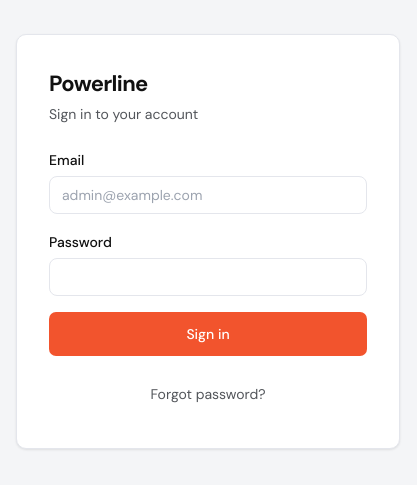
Test: Login › shows an error message when login is rejected
Type "ada@example.com" into the field labelled "Email" at (208, 194), box [49, 176, 367, 214]
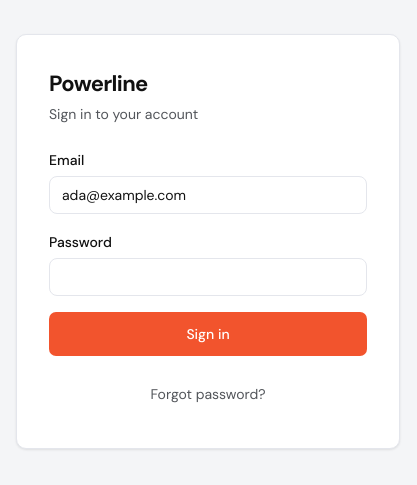
Type "wrong" into the password field labelled "Password" at (208, 276), box [49, 258, 367, 296]
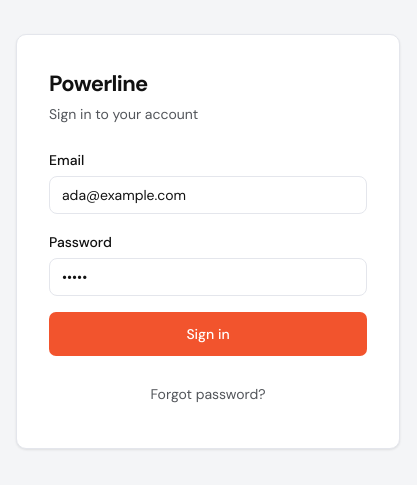
Click the button "Sign in" at (208, 334), box [49, 312, 367, 356]
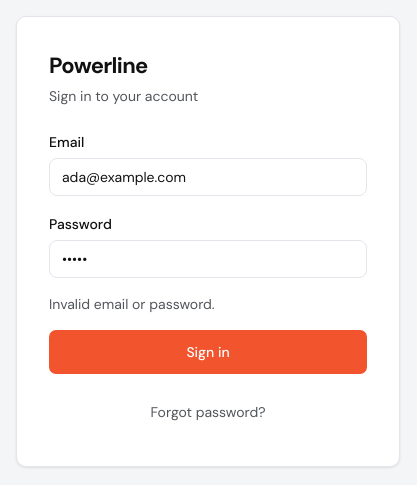
Expected: the text "Invalid email or password." is shown, [49, 294, 215, 312]
